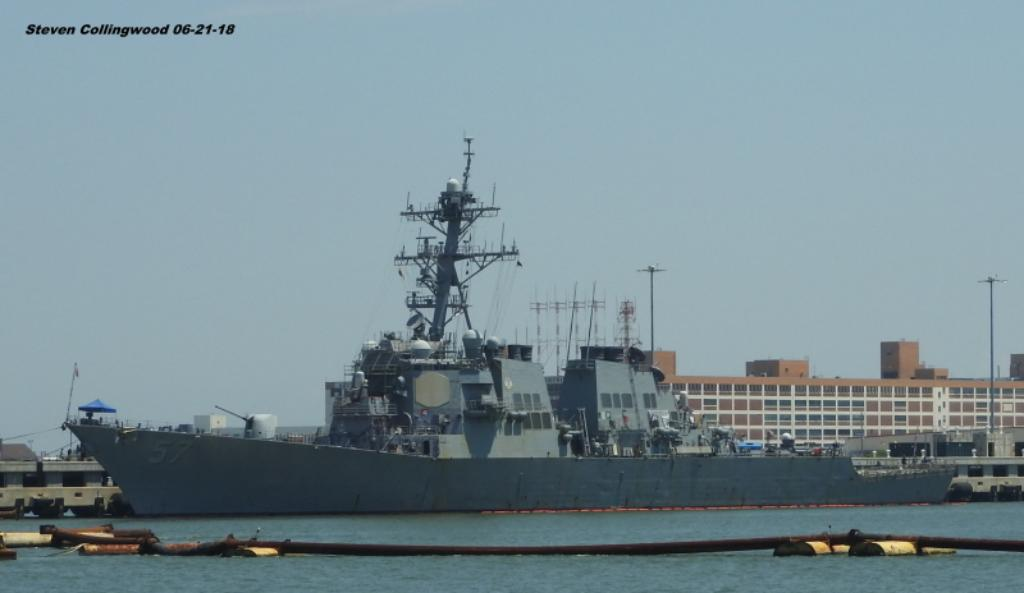Warship: (70, 130, 960, 520)
